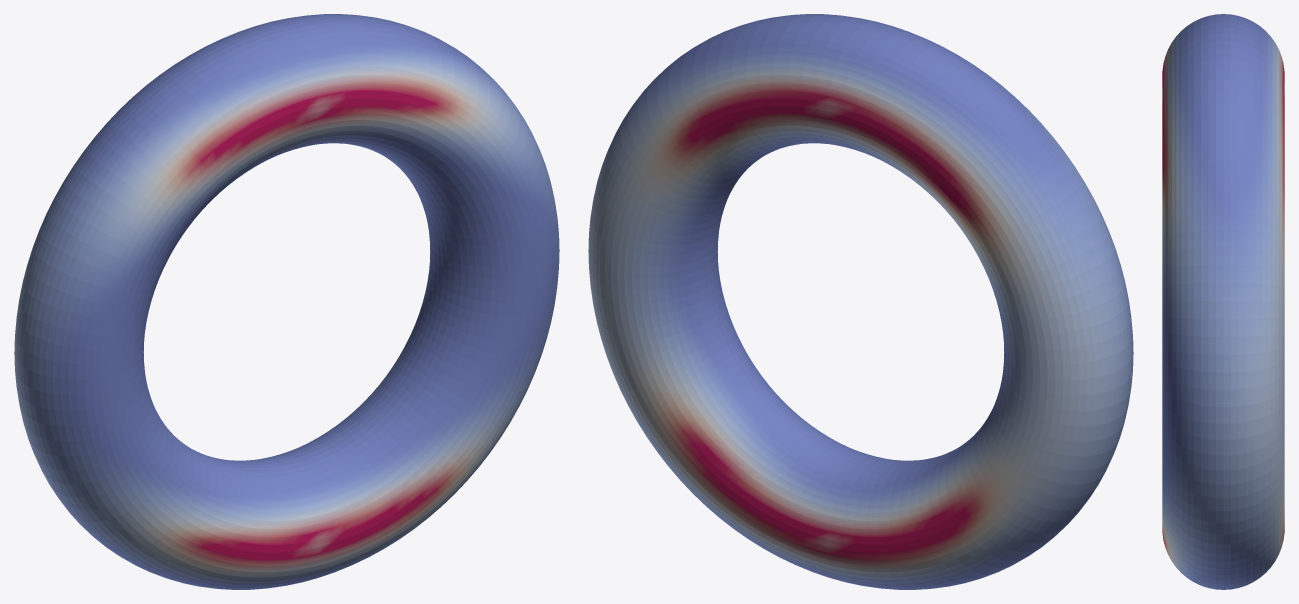
The picture shows the model from 3 angles, left to right: view 1: azimuth 30°, elevation 25°; view 2: azimuth 150°, elevation 25°; view 3: azimuth 270°, elevation 25°; orthographic projection. The views are drawn at different scales.
Parts seen in each view (by area): view 1: world; view 2: world; view 3: world.
Part boxes in pixels (x1,y1,x2,y2): world: (14, 14, 559, 589); world: (588, 14, 1133, 589); world: (1162, 14, 1284, 589).
Bounding box in the file's own units: 19.47 × 19.47 × 4.13.
